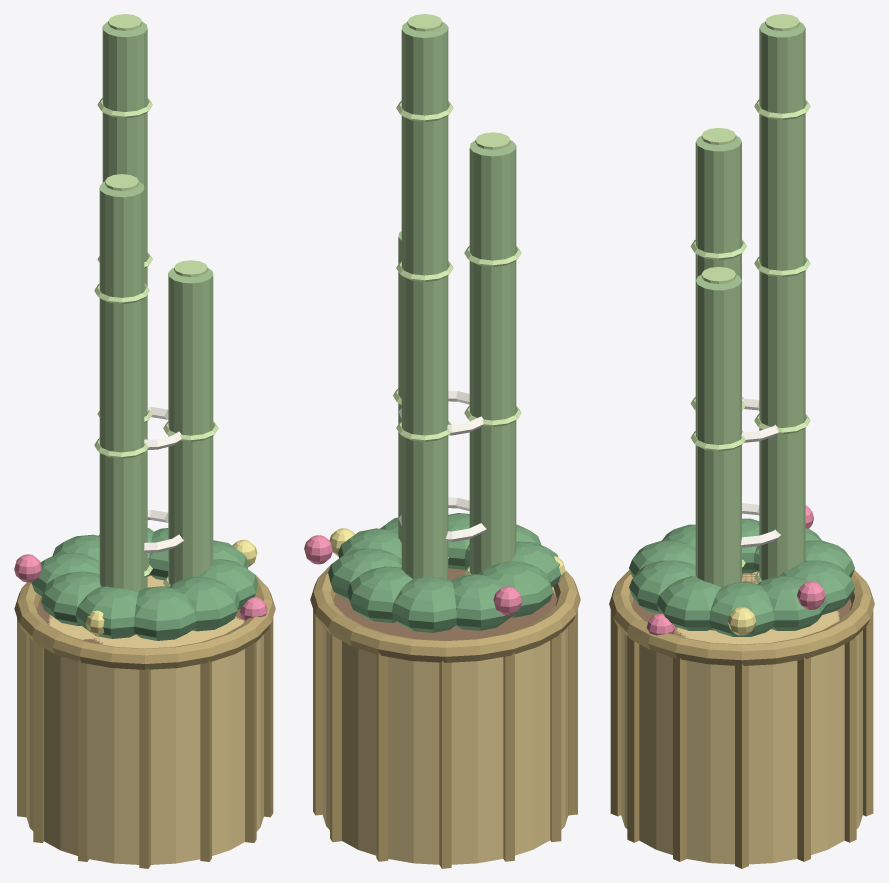
The model's file is kadomatsu.glb.
3 renders of one model, left to right at view 1: azimuth 30°, elevation 25°; view 2: azimuth 150°, elevation 25°; view 3: azimuth 270°, elevation 25°, orthographic. The views are drawn at different scales.
Parts seen in each view (by area): view 1: kadomatsu; view 2: kadomatsu; view 3: kadomatsu.
Part boxes in pixels (x1=…): kadomatsu: x1=14, y1=14, x2=275, y2=868; kadomatsu: x1=304, y1=14, x2=580, y2=868; kadomatsu: x1=609, y1=14, x2=874, y2=868.
Bounding box in the file's own units: 0.46 × 1.51 × 0.46.
